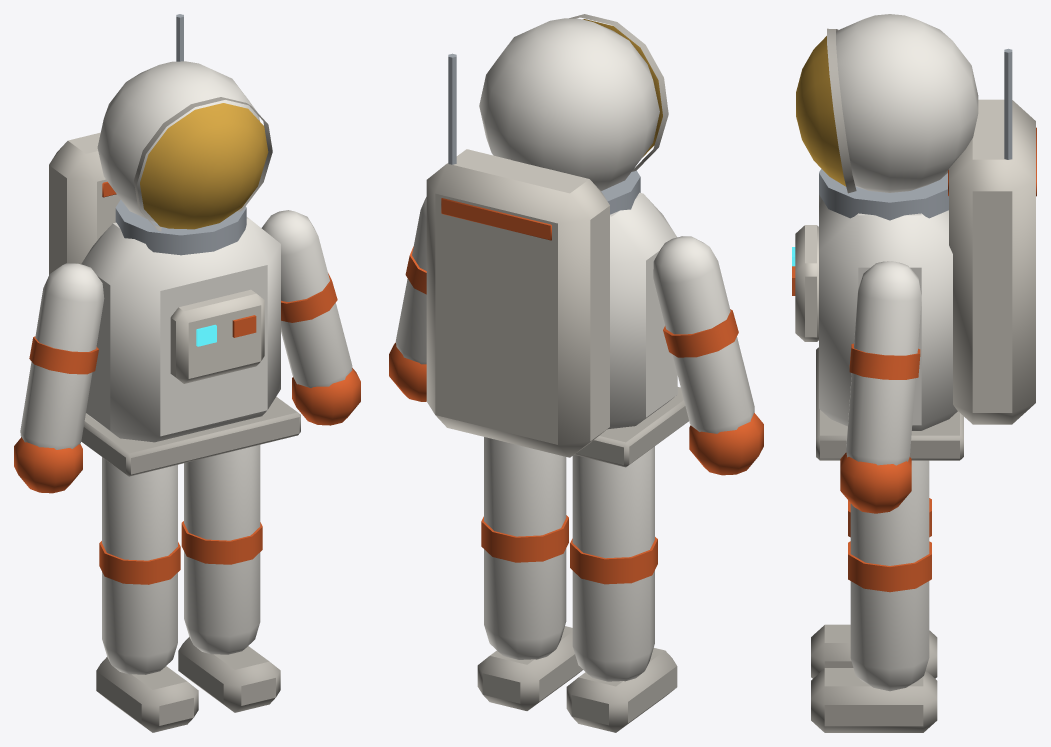
The model's file is astronaut.glb.
3 renders of one model, left to right at view 1: azimuth 30°, elevation 25°; view 2: azimuth 150°, elevation 25°; view 3: azimuth 270°, elevation 25°, orthographic. The views are drawn at different scales.
Visible parts, largest first — view 1: astronaut; view 2: astronaut; view 3: astronaut.
Part boxes in pixels (box(x1,y1,x2,y2)): astronaut: box(14, 14, 360, 732); astronaut: box(389, 14, 763, 732); astronaut: box(792, 14, 1036, 732).
Size of the model in its own units: 0.1971 by 0.35 by 0.1143.
